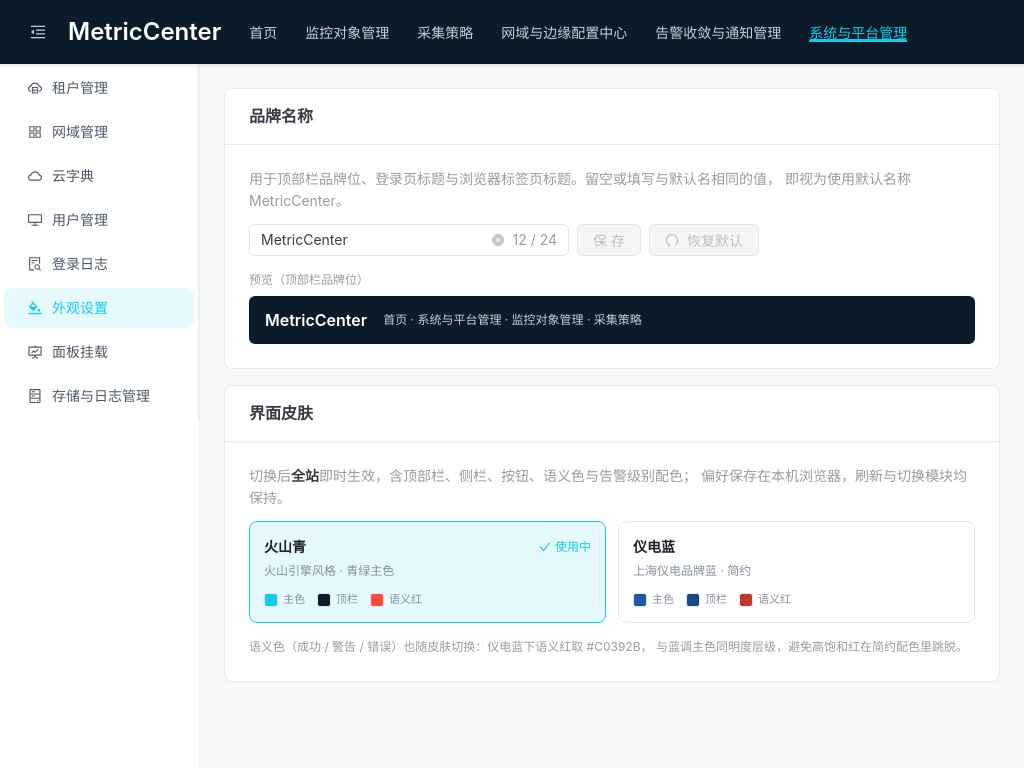
Test case: AppearanceSettingsPage › previews the typed product name but only applies it after saving
The image size is (1024, 768).
expect the button with test id "product-name-save" is disabled: met, box [577,224,641,256]
Type "仪电监控中心" into the field with test id "product-name-input" at [373, 240], box [261,229,484,251]
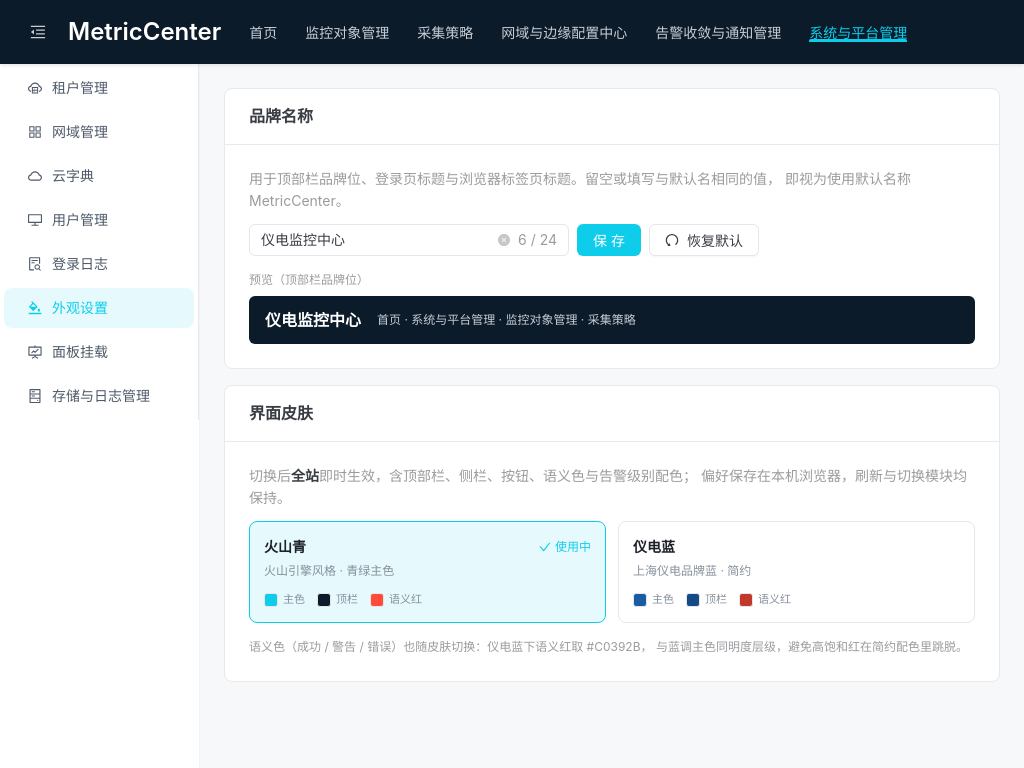
expect the heading with class "app-title" reads "MetricCenter": met, box [68,17,221,46]
expect the button with test id "product-name-save" is enabled: met
expect the element with test id "product-name-preview" shows "仪电监控中心": met, box [265,310,361,330]
Click the button with test id "product-name-save" at [609, 240], box [577,224,641,256]
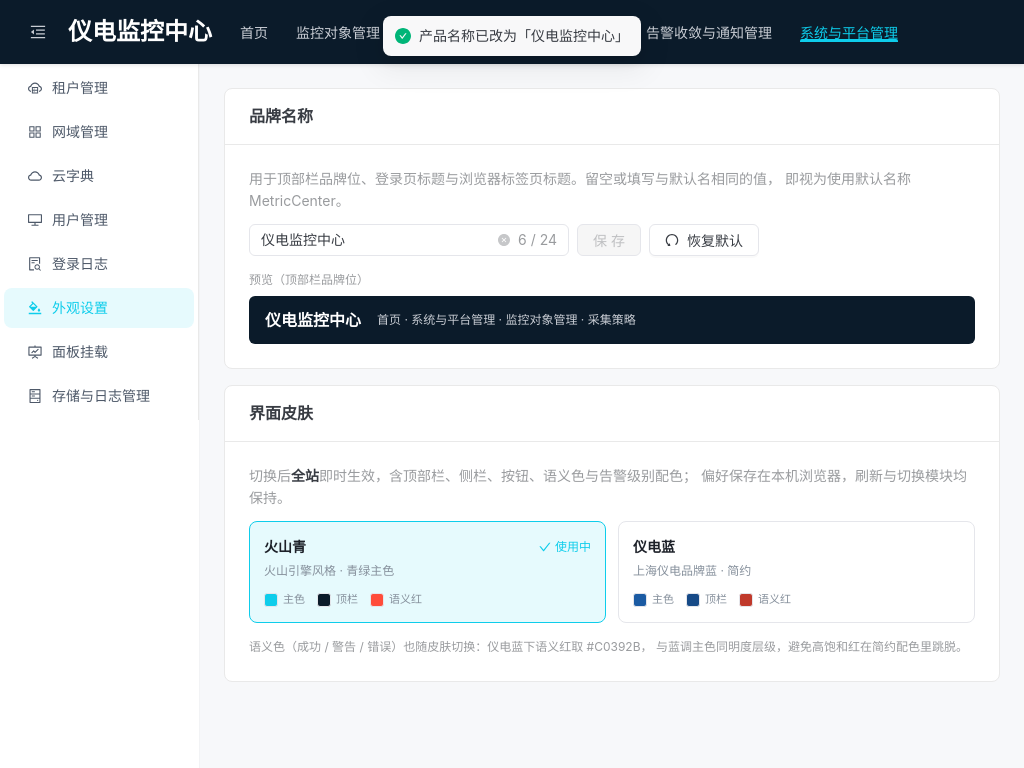
expect the heading with class "app-title" reads "仪电监控中心": met, box [68,17,212,46]
expect the button with test id "product-name-save" is disabled: met, box [577,224,641,256]
